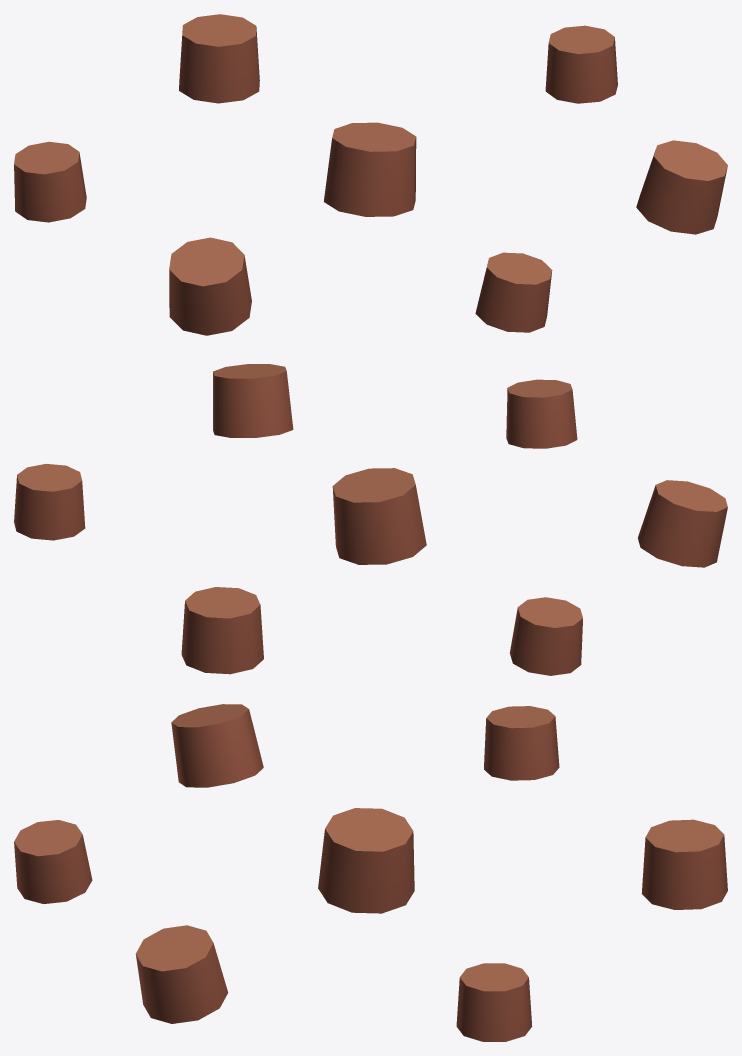
File: trees_B_cut.glb
The picture shows the model from 3 angles, top to bottom: view 1: azimuth 30°, elevation 25°; view 2: azimuth 150°, elevation 25°; view 3: azimuth 270°, elevation 25°; orthographic projection. The views are drawn at different scales.
Visible parts, largest first — view 1: trees_B_cut; view 2: trees_B_cut; view 3: trees_B_cut.
Boxes of the visible parts, x1,y1,x2,y2 form: trees_B_cut: [14, 14, 727, 335]; trees_B_cut: [14, 364, 727, 675]; trees_B_cut: [14, 704, 727, 1041].
Bounding box in the file's own units: 1.4 × 0.1731 × 1.46.
Materials: 1 (1 with a texture image).
